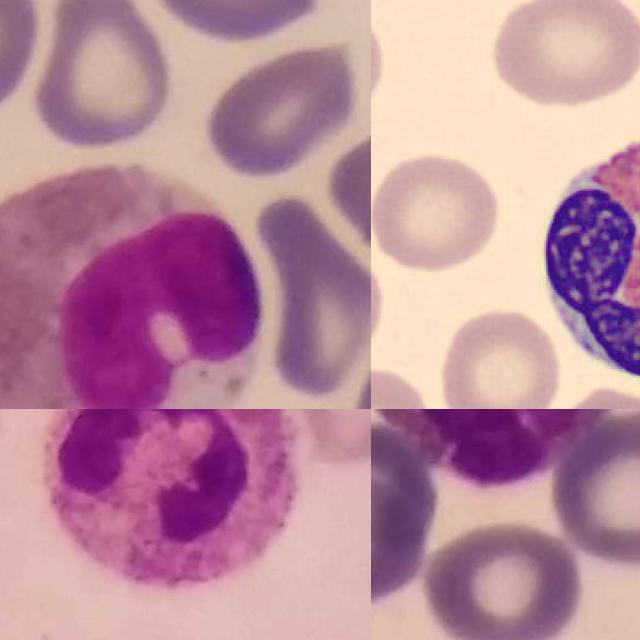Eosinophil: (0, 161, 262, 409), (526, 115, 640, 397), (371, 409, 614, 485)
Neutrophil: (43, 409, 299, 585)
RBC: (484, 0, 640, 111), (371, 146, 505, 275), (432, 302, 565, 409), (371, 360, 439, 409), (371, 235, 388, 378)
